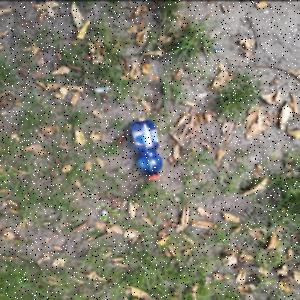Plastic-bottle: (131, 119, 165, 181)
